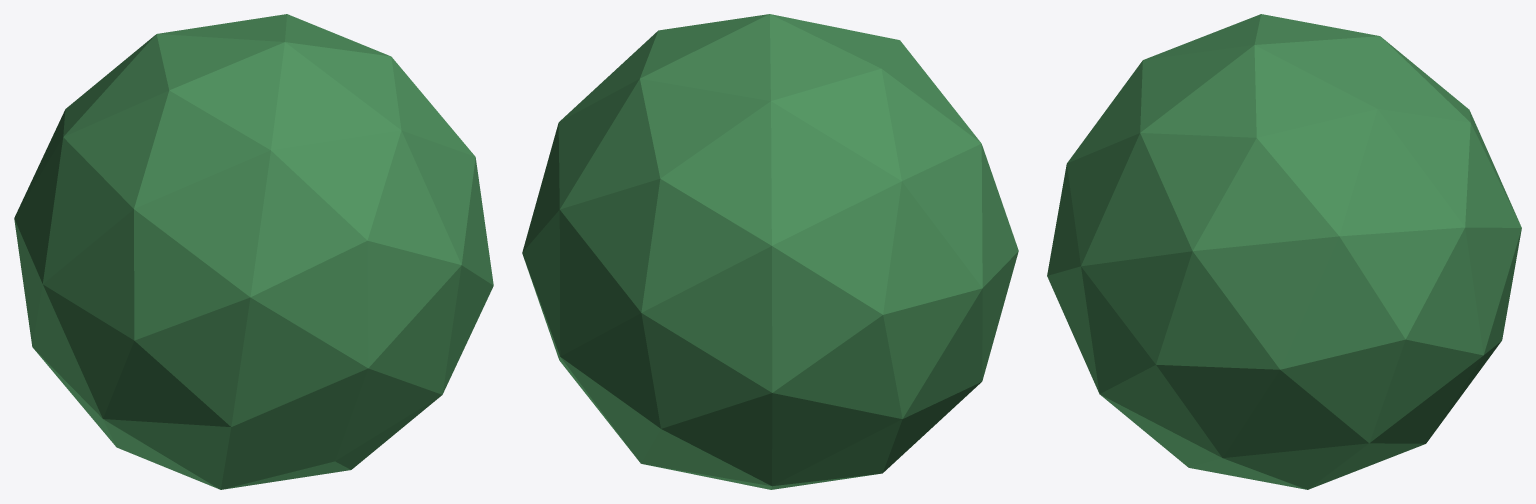
File: VueBall.glb
3 views of the same model, side by side, from view 1: azimuth 30°, elevation 25°; view 2: azimuth 150°, elevation 25°; view 3: azimuth 270°, elevation 25° (orthographic). The views are drawn at different scales.
Parts seen in each view (by area): view 1: Icosphere, Icosphere.001; view 2: Icosphere, Icosphere.001; view 3: Icosphere.001, Icosphere.
Boxes of the visible parts, x1,y1,x2,y2 form: Icosphere: (14, 90, 493, 489); Icosphere.001: (63, 14, 475, 156); Icosphere: (522, 40, 1018, 489); Icosphere.001: (522, 14, 901, 356); Icosphere.001: (1140, 14, 1521, 369); Icosphere: (1047, 60, 1521, 489).
Bounding box in the file's own units: 1.99 × 1.98 × 1.98.
